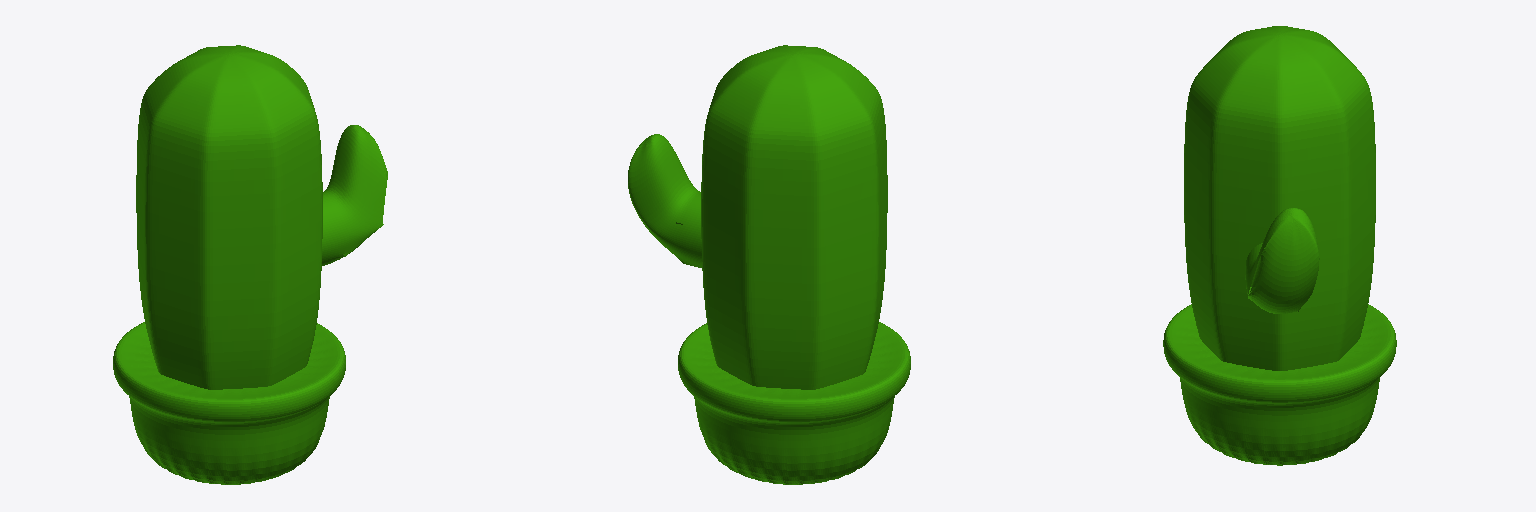
3 views of the same model, side by side, from view 1: azimuth 30°, elevation 25°; view 2: azimuth 150°, elevation 25°; view 3: azimuth 270°, elevation 25° (orthographic).
Parts seen in each view (by area): view 1: cactus; view 2: cactus; view 3: cactus.
Boxes of the visible parts, x1,y1,x2,y2 form: cactus: [113, 45, 387, 484]; cactus: [628, 45, 910, 484]; cactus: [1163, 26, 1396, 465].
Bounding box in the file's own units: 3 × 4.68 × 2.38.
Materials: 1 (1 with a texture image).